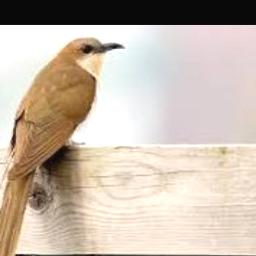Cuckoo: (0, 37, 126, 256)
